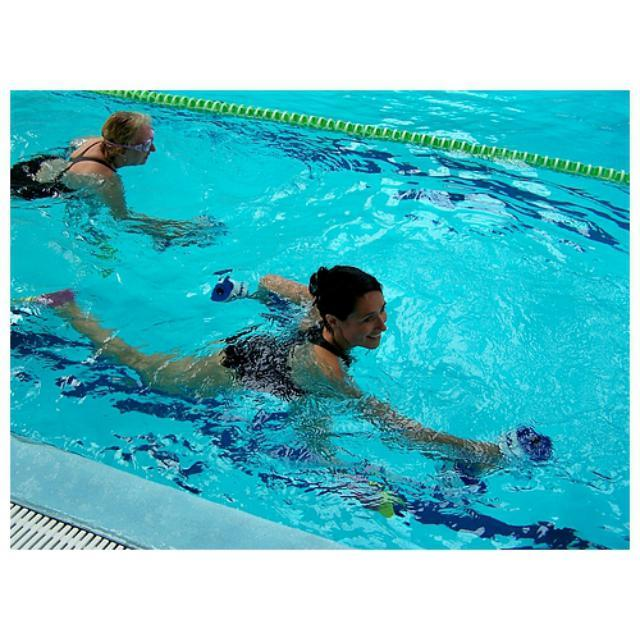human: (37, 266, 501, 459), (6, 111, 159, 233)
